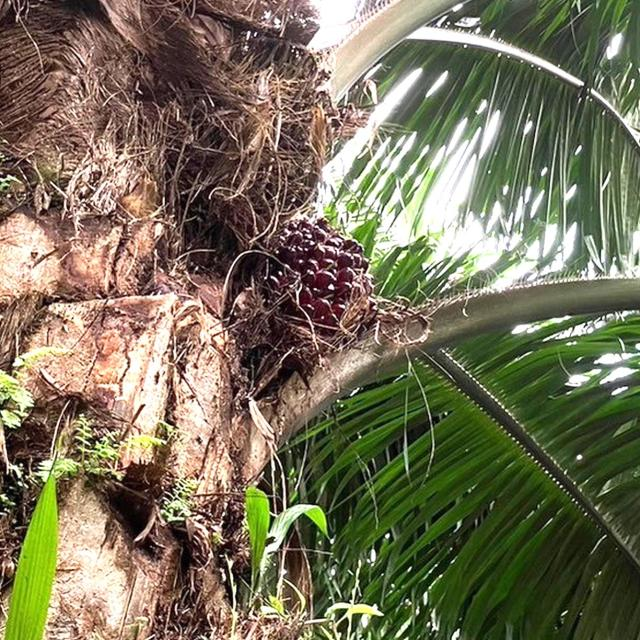ripe: (240, 203, 400, 378)
